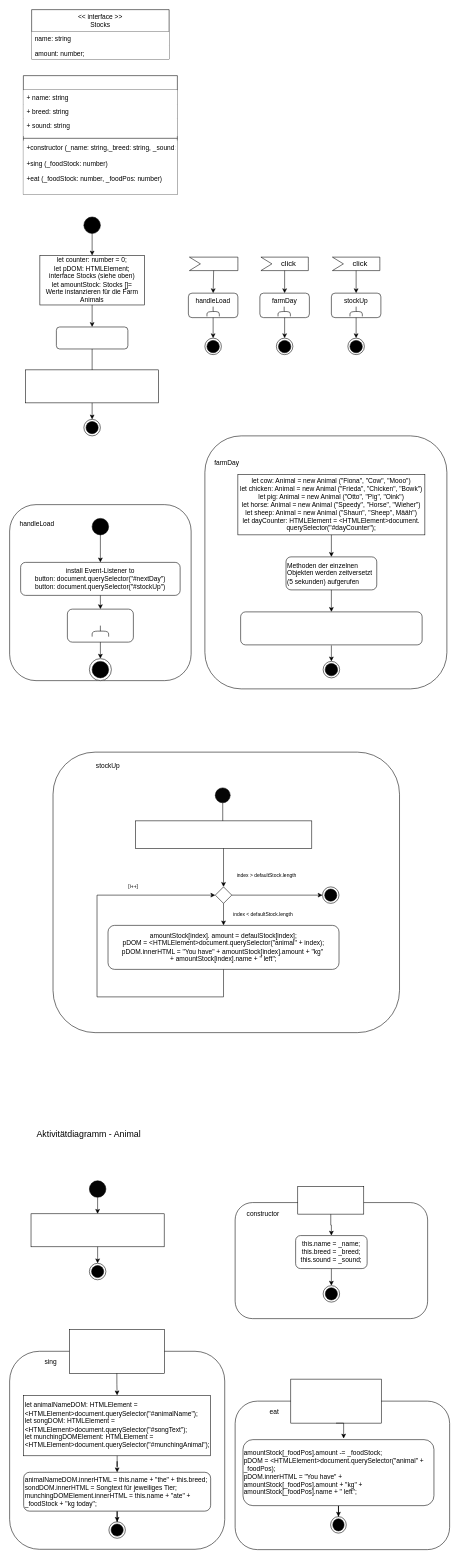
Some shapes in this 465 by 1559 pixel diagram are drawn without their labels. The shapes that lost their labels are listed below. From the top down, each one's box as (x1, y1, x2, y2) in pixels, then its label:
(23, 75, 177, 194): Animal
(189, 257, 238, 271): load
(56, 326, 128, 349): install load-listener
(25, 369, 159, 403): class Animal ( Attribute und Methoden werden erstellt)
(67, 609, 133, 642): function farmDay();
(240, 611, 422, 645): counter++; dayCounter.innerHTML = "Day: " + counter;
(135, 820, 312, 848): let defaultStock: number [] = [Nummern für das Essen]
(297, 1186, 364, 1214): _name: string _breed: string _sound: string
(30, 1213, 164, 1247): public name: string; public breed: string; publc sound: string;
(69, 1329, 164, 1373): _foodStock: number
(290, 1379, 381, 1423): _foodStock: number _foodPos: number
